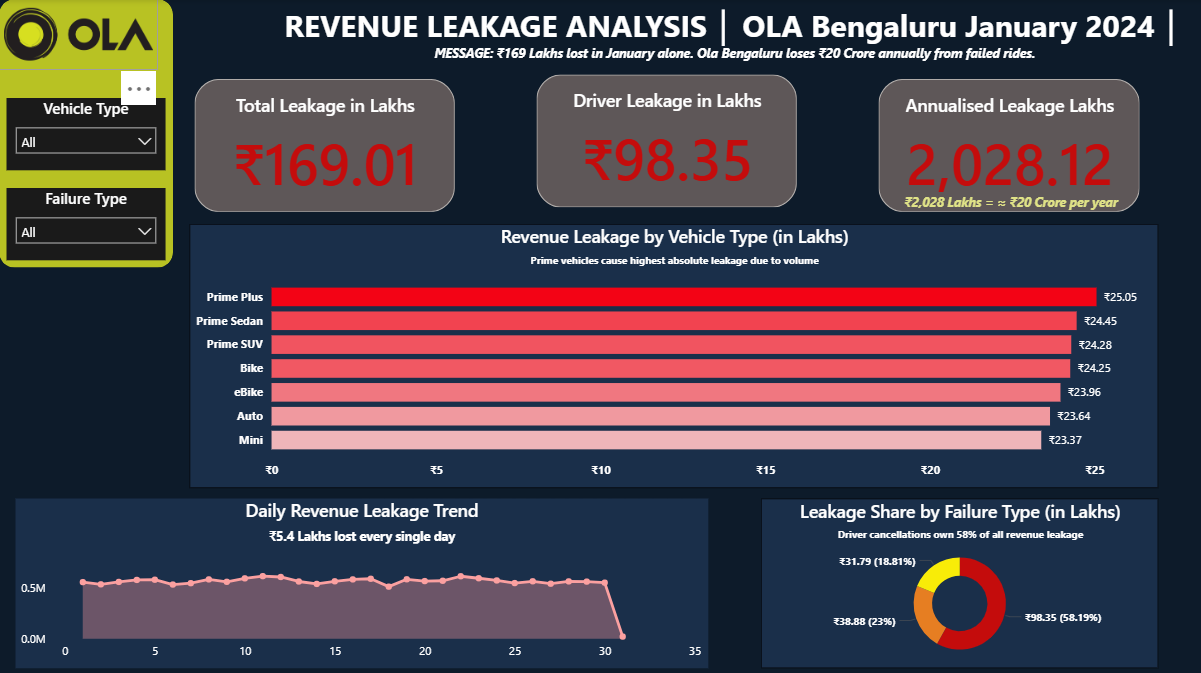

This screenshot's page, from the dashboard's own definition file:
{"tool":"powerbi","page":{"name":"Revenue Leakage","canvas":[1280,720],"ordinal":3},"visuals":[{"type":"shape","box":[0,0,184.6,285],"z":0},{"type":"textbox","box":[276.7,0,1003.3,75],"z":1000},{"type":"slicer","title":"Vehicle Type","fields":{"Values":["ola_powerbi_ready.Vehicle Type"]},"box":[8,105,168.6,76.3],"z":2000},{"type":"slicer","title":"Failure Type","fields":{"Values":["ola_powerbi_ready.Booking Status"]},"box":[8,200.4,168.6,76.3],"z":3000},{"type":"clusteredBarChart","title":"Revenue Leakage by Vehicle Type (in Lakhs)","fields":{"Category":["ola_powerbi_ready.Vehicle Type"],"Y":["Measure Table.Total Revenue Leakage Lakhs"]},"box":[202,238.6,1027.5,279.9],"z":4000},{"type":"donutChart","title":" Leakage Share by Failure Type (in Lakhs)","fields":{"Category":["ola_powerbi_ready.Booking Status"],"Y":["Measure Table.Total Revenue Leakage Lakhs"]},"box":[808,529.7,421.5,179.7],"z":5000},{"type":"cardVisual","fields":{"Data":["Measure Table.Total Revenue Leakage Lakhs"]},"box":[202,79.5,286.3,151.1],"z":6000},{"type":"cardVisual","fields":{"Data":["Measure Table.Driver Leakage Lakhs"]},"box":[564.7,74.8,286.3,151.1],"z":7000},{"type":"cardVisual","fields":{"Data":["Measure Table.Annualised Leakage Lakhs"]},"box":[927.3,79.5,287.9,151.1],"z":8000},{"type":"textbox","box":[922.6,182.9,297.4,54.1],"z":9000},{"type":"areaChart","title":"Daily Revenue Leakage Trend","fields":{"Category":["ola_powerbi_ready.Date.Variation.Date Hierarchy.Day"],"Y":["Sum(ola_powerbi_ready.Estimated_Leakage)"]},"box":[17.5,529.7,734.9,179.7],"z":10000},{"type":"image","box":[0.3,0.3,168.4,74.5],"z":11000}]}

Visuals, with their boxes in screenshot pixels (x1, y1, x2, y2), scaled from the page's 1280x720 canvas onto the 1201x673 screenshot:
shape: 0,0,173,266
textbox: 260,0,1200,70
"Vehicle Type" slicer: 8,98,166,169
"Failure Type" slicer: 8,187,166,259
"Revenue Leakage by Vehicle Type (in Lakhs)" clusteredBarChart: 190,223,1154,485
" Leakage Share by Failure Type (in Lakhs)" donutChart: 758,495,1154,663
cardVisual - Measure Table.Total Revenue Leakage Lakhs: 190,74,458,216
cardVisual - Measure Table.Driver Leakage Lakhs: 530,70,798,211
cardVisual - Measure Table.Annualised Leakage Lakhs: 870,74,1140,216
textbox: 866,171,1145,222
"Daily Revenue Leakage Trend" areaChart: 16,495,706,663
image: 0,0,158,70
